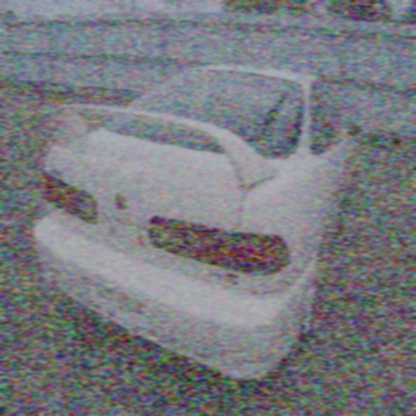Vehicle: (32, 63, 368, 387)
